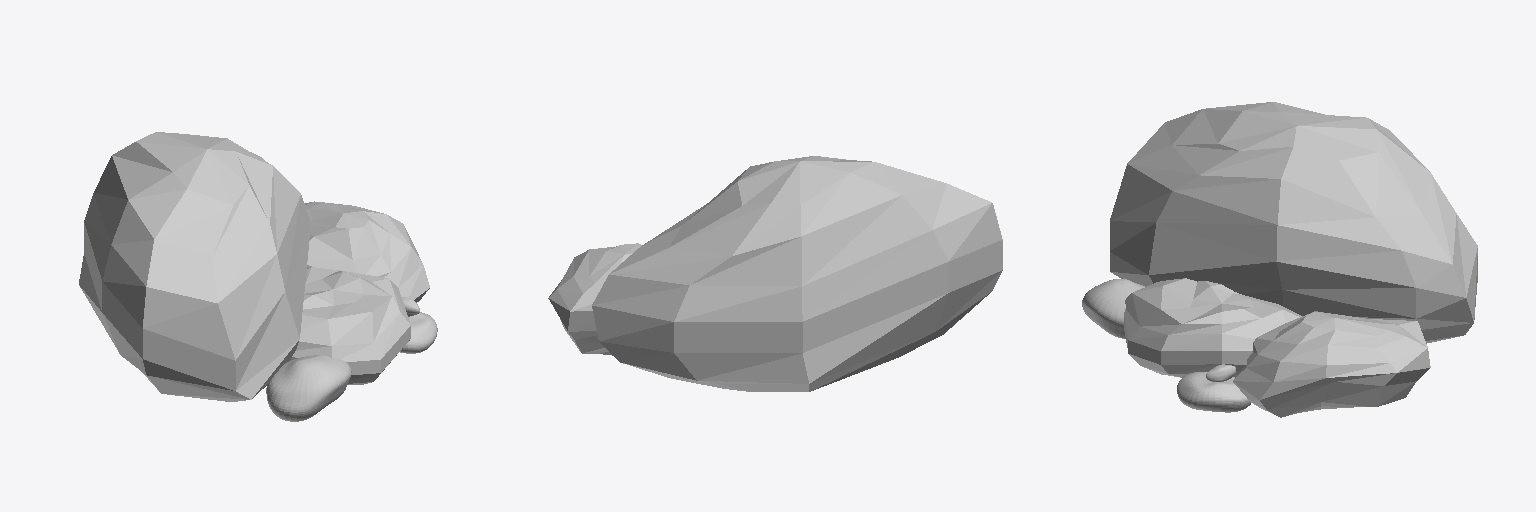
Rendered from rocks.obj.
3 renders of one model, left to right at view 1: azimuth 30°, elevation 25°; view 2: azimuth 150°, elevation 25°; view 3: azimuth 270°, elevation 25°, orthographic.
Parts seen in each view (by area): view 1: stone_3, stone_2, stone_1, stone_4, stone_5; view 2: stone_3, stone_1; view 3: stone_3, stone_1, stone_2, stone_5, stone_4.
Boxes of the visible parts, <box> form: stone_3: <box>79,132,310,401</box>; stone_2: <box>290,267,410,384</box>; stone_1: <box>304,201,429,302</box>; stone_4: <box>266,355,351,421</box>; stone_5: <box>400,312,437,353</box>; stone_3: <box>592,156,1002,391</box>; stone_1: <box>548,243,641,355</box>; stone_3: <box>1110,102,1477,343</box>; stone_1: <box>1233,311,1430,417</box>; stone_2: <box>1124,278,1301,377</box>; stone_5: <box>1177,372,1250,412</box>; stone_4: <box>1082,279,1144,338</box>.
Bounding box in the file's own units: 2.83 × 1.72 × 2.79.